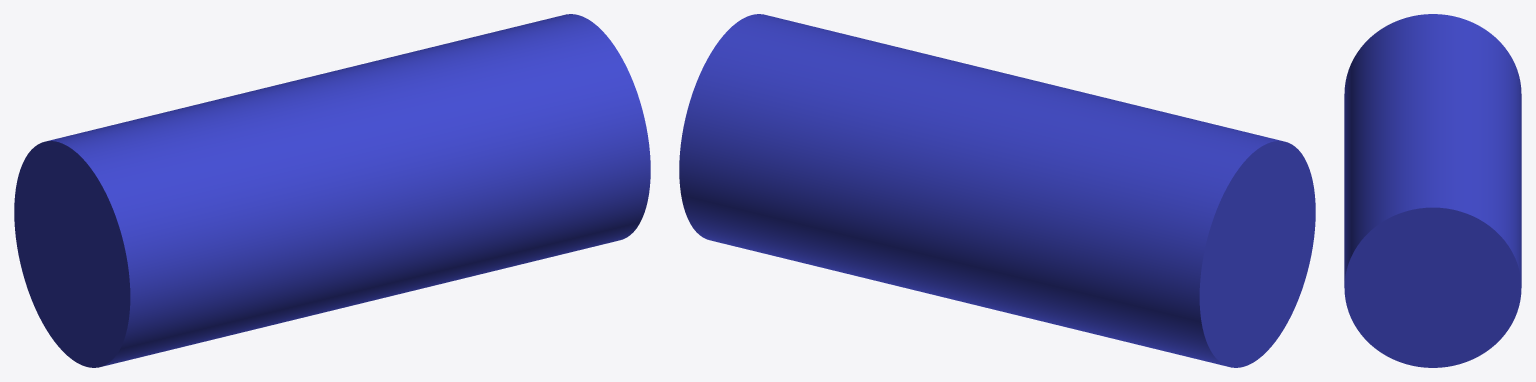
3 views of the same model, side by side, from view 1: azimuth 30°, elevation 25°; view 2: azimuth 150°, elevation 25°; view 3: azimuth 270°, elevation 25° (orthographic). The views are drawn at different scales.
Parts seen in each view (by area): view 1: root; view 2: root; view 3: root.
Boxes of the visible parts, x1,y1,x2,y2 form: root: (14,14,650,367); root: (679,14,1315,367); root: (1344,14,1521,367).
Size of the model in its own units: 0.0303 by 0.0117 by 0.0117.
